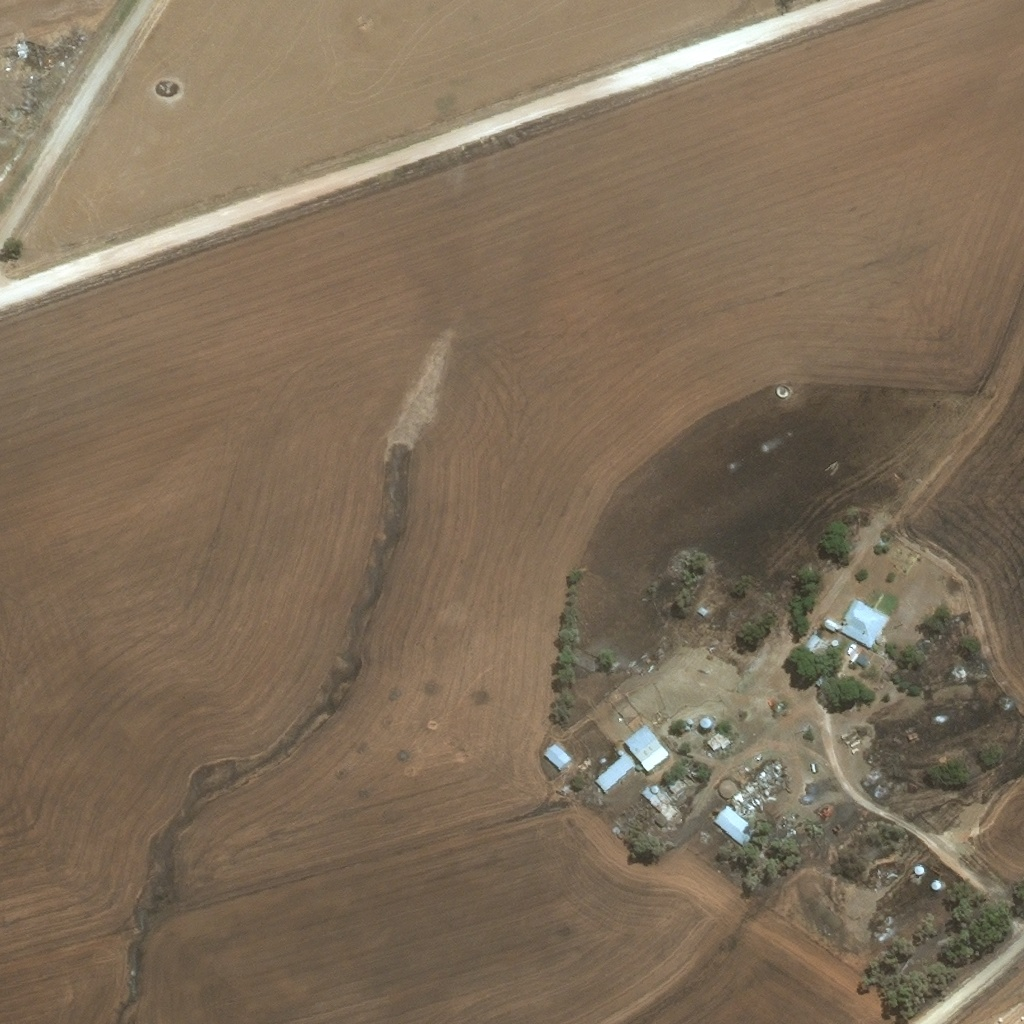0 no-damage: (838, 594, 891, 649), (624, 722, 671, 771), (595, 746, 637, 793), (544, 741, 572, 770), (707, 728, 734, 750), (804, 631, 825, 652), (822, 616, 841, 631), (703, 713, 716, 726), (697, 602, 710, 614), (929, 881, 941, 892), (855, 653, 867, 664), (912, 866, 923, 877), (651, 783, 661, 792)
1 minor-damage: (711, 805, 755, 847), (716, 778, 737, 798)
2 major-damage: (641, 785, 680, 829)
3 destroyed: (729, 756, 785, 818), (663, 769, 695, 802), (682, 759, 705, 782)
4 un-classified: (607, 656, 621, 672)
